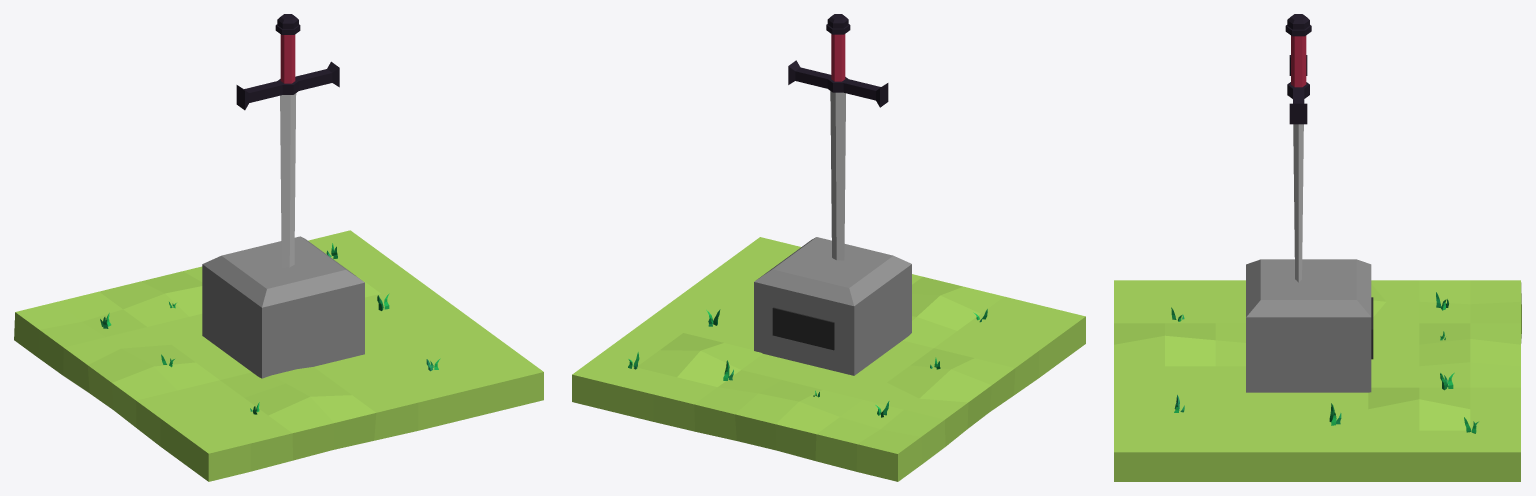
The model's file is swordPedestal.glb.
3 renders of one model, left to right at view 1: azimuth 30°, elevation 25°; view 2: azimuth 150°, elevation 25°; view 3: azimuth 270°, elevation 25°, orthographic. The views are drawn at different scales.
Parts seen in each view (by area): view 1: Plane, Cube, Cylinder; view 2: Plane, Cube, Cylinder, Plane.001; view 3: Plane, Cube, Cylinder.
Part boxes in pixels (bbox=[...]): Plane: bbox=[14, 230, 543, 481]; Cube: bbox=[202, 236, 364, 378]; Cylinder: bbox=[236, 14, 339, 267]; Plane: bbox=[572, 237, 1085, 481]; Cube: bbox=[754, 237, 911, 375]; Cylinder: bbox=[788, 14, 888, 260]; Plane.001: bbox=[772, 307, 834, 350]; Plane: bbox=[1114, 280, 1521, 481]; Cube: bbox=[1246, 259, 1371, 392]; Cylinder: bbox=[1285, 14, 1311, 282].
Bounding box in the file's own units: 22.15 × 22.84 × 22.15.
